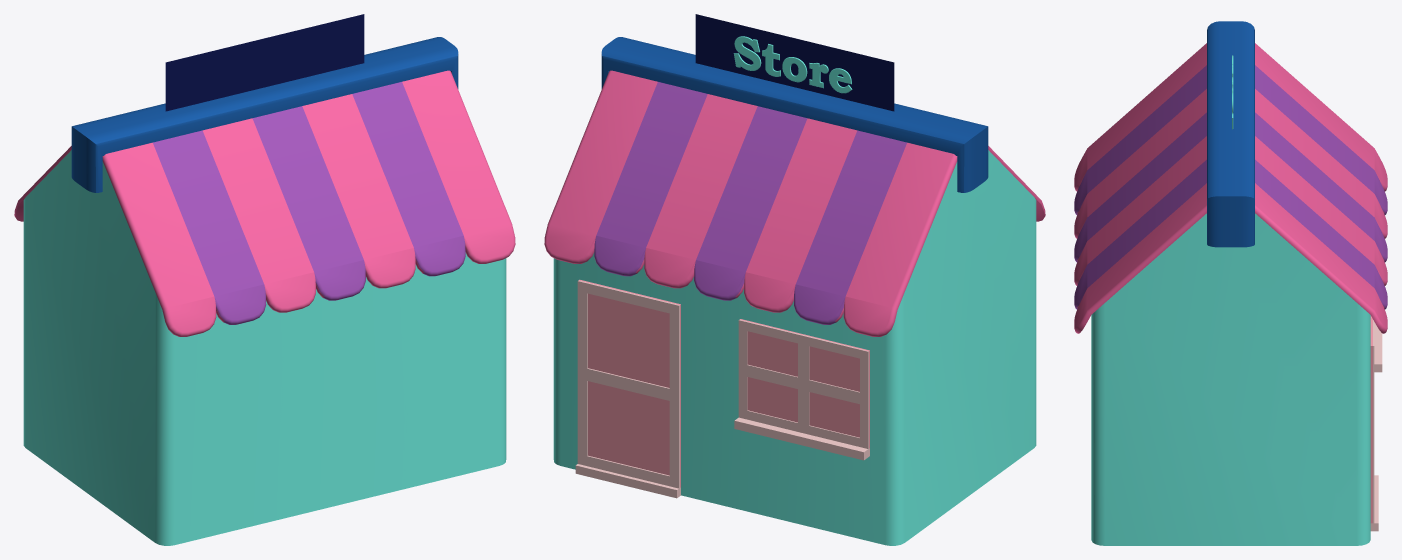
File: Simulation.fbx
3 renders of one model, left to right at view 1: azimuth 30°, elevation 25°; view 2: azimuth 150°, elevation 25°; view 3: azimuth 270°, elevation 25°, orthographic. The views are drawn at different scales.
Parts seen in each view (by area): view 1: Cube.002; view 2: Cube.002; view 3: Cube.002.
Boxes of the visible parts, box(x1,y1,x2,y2) form: Cube.002: box(14, 14, 515, 545); Cube.002: box(544, 14, 1045, 545); Cube.002: box(1074, 21, 1387, 545).
Bounding box in the file's own units: 481 × 516 × 364.
